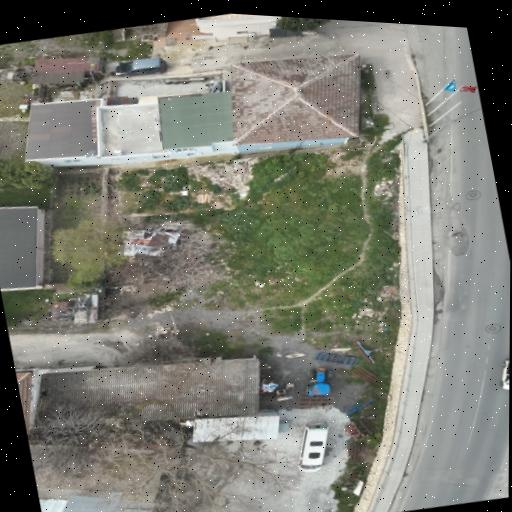car: (298, 422, 327, 471), (115, 57, 166, 75), (500, 359, 509, 388)
tractors: (306, 368, 332, 397)
